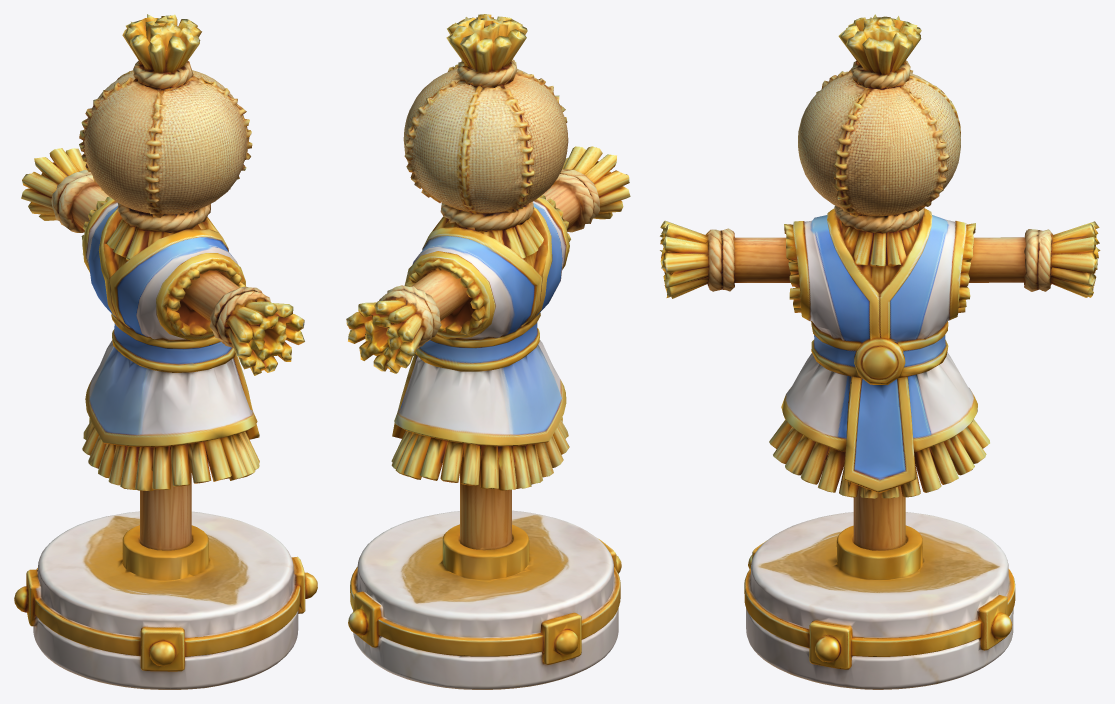
File: HaloReasonHQ_Scarecrow_HD_src.glb
3 renders of one model, left to right at view 1: azimuth 30°, elevation 25°; view 2: azimuth 150°, elevation 25°; view 3: azimuth 270°, elevation 25°, orthographic.
Parts seen in each view (by area): view 1: tripo_node_58fec752-2ac9-4faf-8b98-4053116be2ef; view 2: tripo_node_58fec752-2ac9-4faf-8b98-4053116be2ef; view 3: tripo_node_58fec752-2ac9-4faf-8b98-4053116be2ef.
Boxes of the visible parts, x1,y1,x2,y2 form: tripo_node_58fec752-2ac9-4faf-8b98-4053116be2ef: (14,14,317,689); tripo_node_58fec752-2ac9-4faf-8b98-4053116be2ef: (346,14,630,689); tripo_node_58fec752-2ac9-4faf-8b98-4053116be2ef: (660,14,1100,689).
Size of the model in its own units: 0.4075 by 0.9808 by 0.6386.
Materials: 1 (1 with a texture image).
